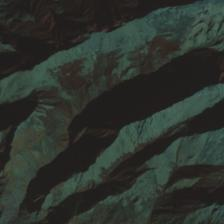landslides: (38, 142, 47, 171), (40, 44, 55, 53), (126, 92, 133, 109), (98, 102, 109, 112)
